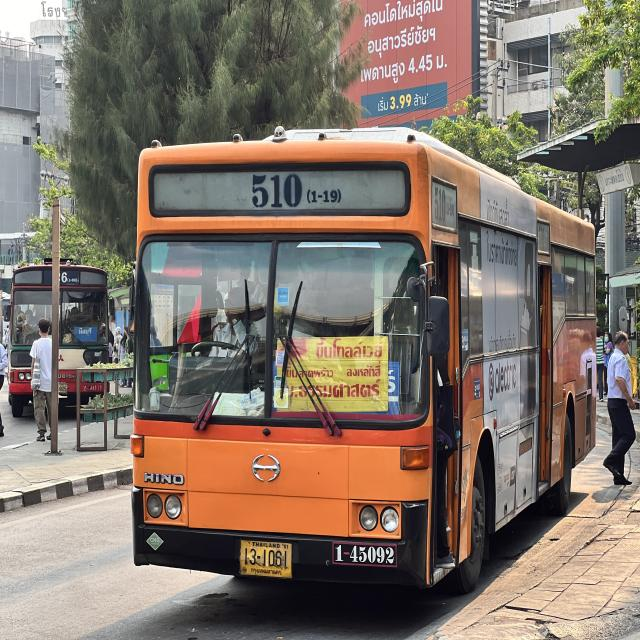BMTA-bus: (124, 113, 599, 607), (7, 250, 116, 409)
Bus-Line-Number: (247, 172, 345, 209), (50, 268, 81, 284)
Destination-Sign-Normal: (74, 325, 97, 341)
Destination-Sign-Normal-Expressway: (278, 340, 389, 414)
